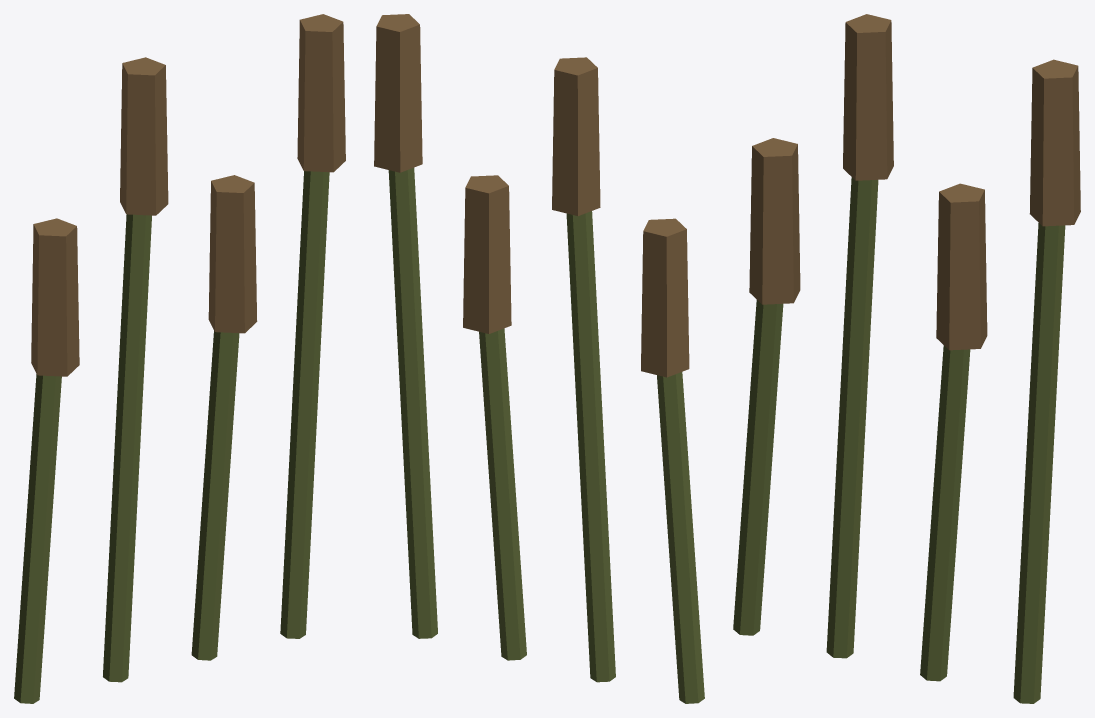
3 renders of one model, left to right at view 1: azimuth 30°, elevation 25°; view 2: azimuth 150°, elevation 25°; view 3: azimuth 330°, elevation 25°, orthographic. The views are drawn at different scales.
Parts seen in each view (by area): view 1: V12_矮芦苇簇; view 2: V12_矮芦苇簇; view 3: V12_矮芦苇簇.
Boxes of the visible parts, bbox=[...] form: V12_矮芦苇簇: bbox=[14, 14, 345, 703]; V12_矮芦苇簇: bbox=[374, 14, 704, 703]; V12_矮芦苇簇: bbox=[733, 14, 1080, 703].
Bounding box in the file's own units: 0.2927 × 0.5206 × 0.0362.
